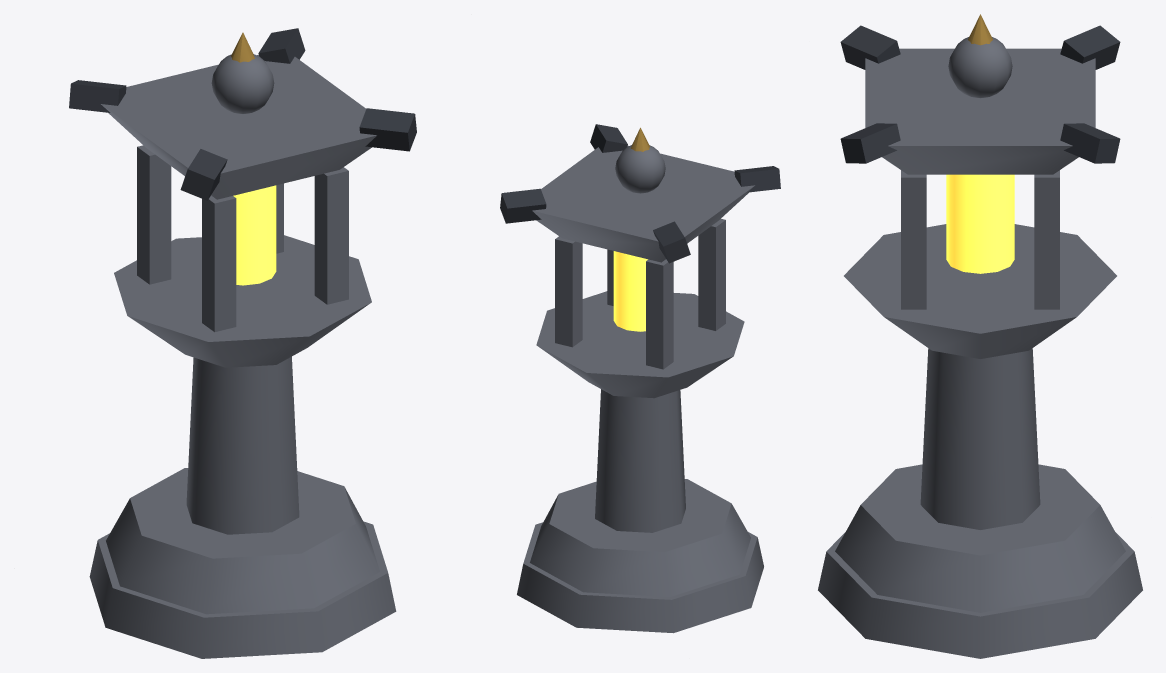
The model's file is pal1-env-stone-lantern.glb.
The picture shows the model from 3 angles, left to right: view 1: azimuth 30°, elevation 25°; view 2: azimuth 150°, elevation 25°; view 3: azimuth 270°, elevation 25°; orthographic projection. The views are drawn at different scales.
Parts seen in each view (by area): view 1: Pal1StoneLantern; view 2: Pal1StoneLantern; view 3: Pal1StoneLantern.
Part boxes in pixels (box(x1,y1,x2,y2)): Pal1StoneLantern: box(14, 14, 471, 658); Pal1StoneLantern: box(500, 124, 780, 633); Pal1StoneLantern: box(809, 14, 1142, 658).
Size of the model in its own units: 0.801 by 1.6 by 0.801.
